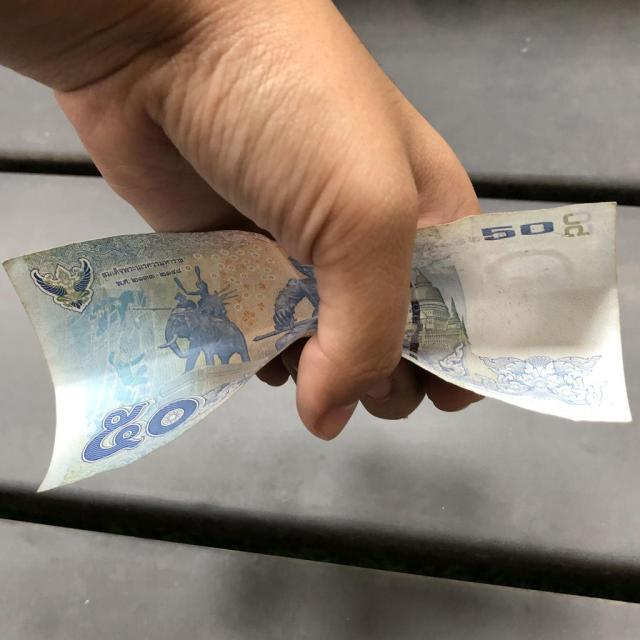THAI50: (3, 231, 319, 494), (401, 202, 634, 426)
